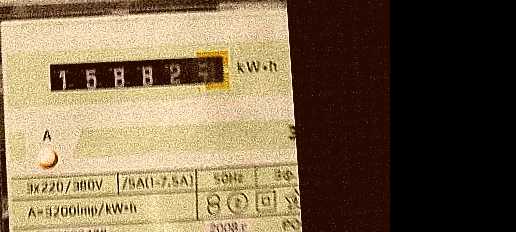1: (55, 66, 70, 89)
2: (166, 61, 183, 86)
5: (83, 64, 98, 90)
7: (196, 66, 209, 84)
8: (139, 62, 154, 87), (111, 64, 125, 88)
screen: (39, 41, 239, 109)
